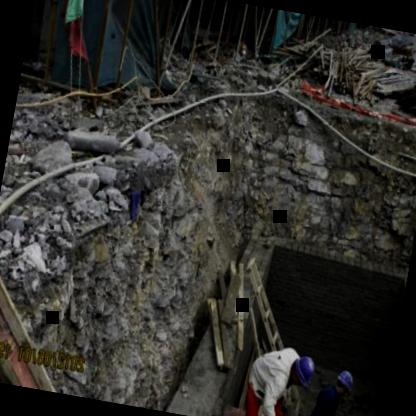helmet: (288, 352, 320, 392), (330, 364, 357, 398)
